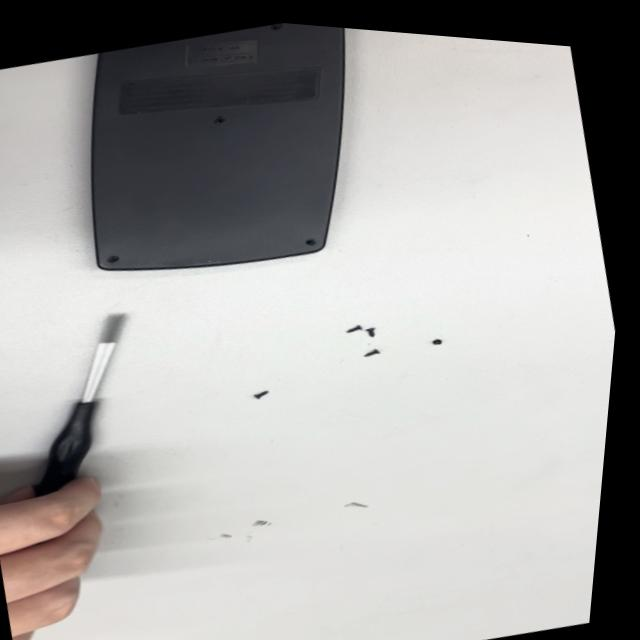back_cover: (43, 6, 403, 320)
screw: (247, 385, 275, 407), (358, 345, 385, 365), (424, 332, 447, 350), (343, 320, 367, 336), (362, 324, 382, 342)
screw_driver: (0, 296, 179, 522)
